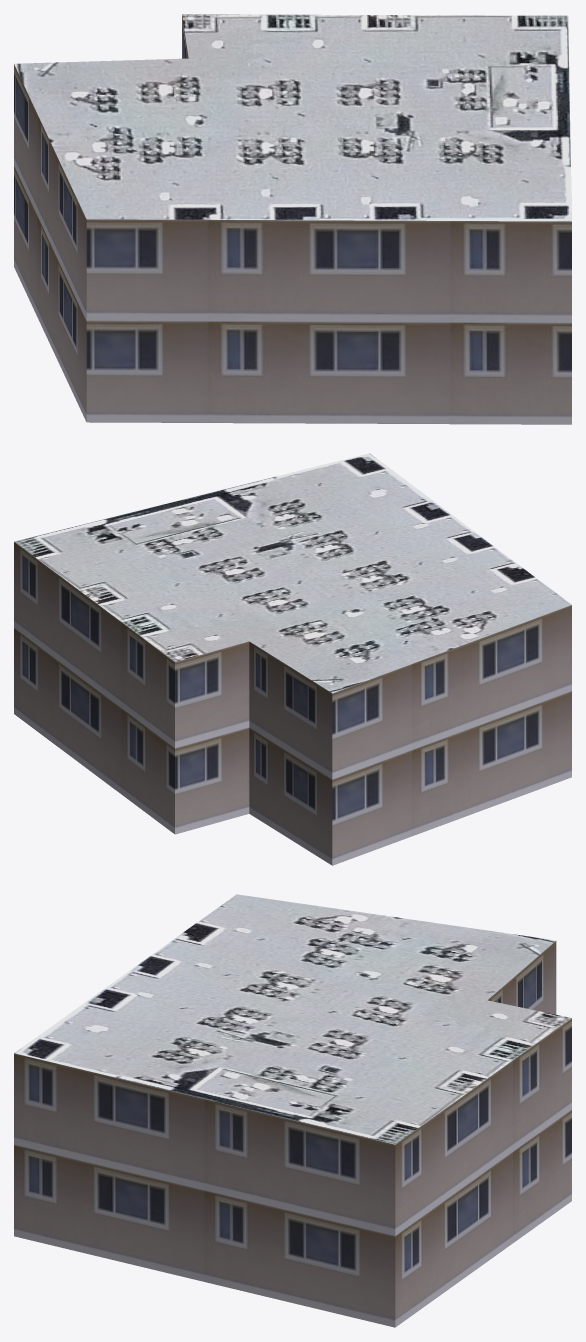
The model's file is ResTex__3659.fbx.
3 renders of one model, top to bottom at view 1: azimuth 30°, elevation 25°; view 2: azimuth 150°, elevation 25°; view 3: azimuth 270°, elevation 25°, orthographic. The views are drawn at different scales.
Parts seen in each view (by area): view 1: CityEngineMaterial_21_m, CityEngineMaterial_4_m; view 2: CityEngineMaterial_21_m, CityEngineMaterial_4_m; view 3: CityEngineMaterial_21_m, CityEngineMaterial_4_m.
Boxes of the visible parts, left/top/right/bottom form: CityEngineMaterial_21_m: left=14, top=15, right=571, bottom=424; CityEngineMaterial_4_m: left=14, top=14, right=571, bottom=221; CityEngineMaterial_21_m: left=14, top=542, right=571, bottom=865; CityEngineMaterial_4_m: left=14, top=453, right=571, bottom=693; CityEngineMaterial_21_m: left=14, top=941, right=571, bottom=1327; CityEngineMaterial_4_m: left=14, top=894, right=571, bottom=1144.
Bounding box in the file's own units: 17.6 × 6 × 16.58.
Materials: 2 (2 with a texture image).
